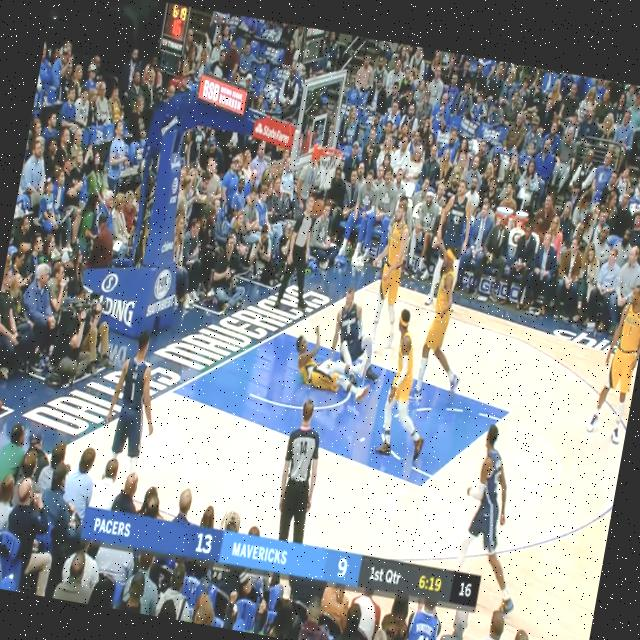foul: (272, 274, 391, 412)
no foul: (364, 237, 486, 485), (365, 195, 426, 346)
